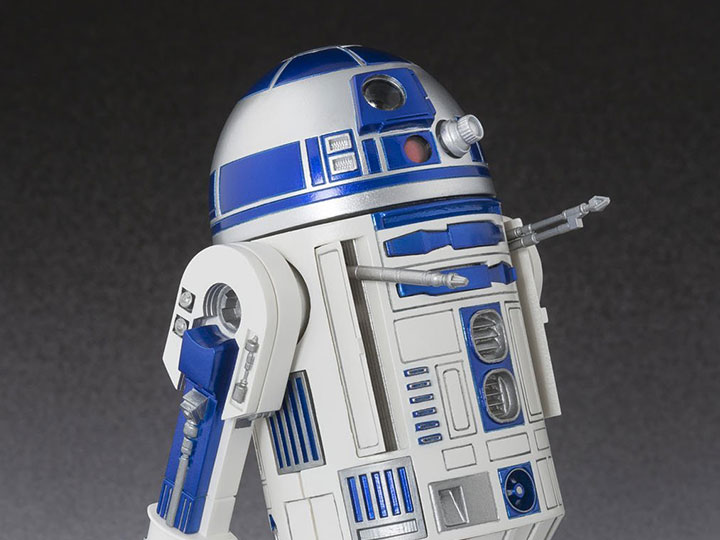r2d2: (146, 41, 566, 536)
